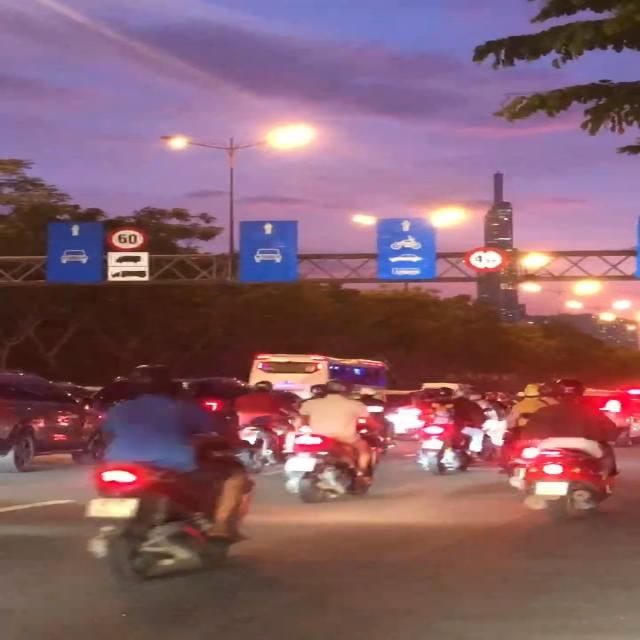Bien bao han che chieu cao: (459, 244, 508, 276)
Bien bao toc do toi da cho phep: (106, 222, 150, 252)
